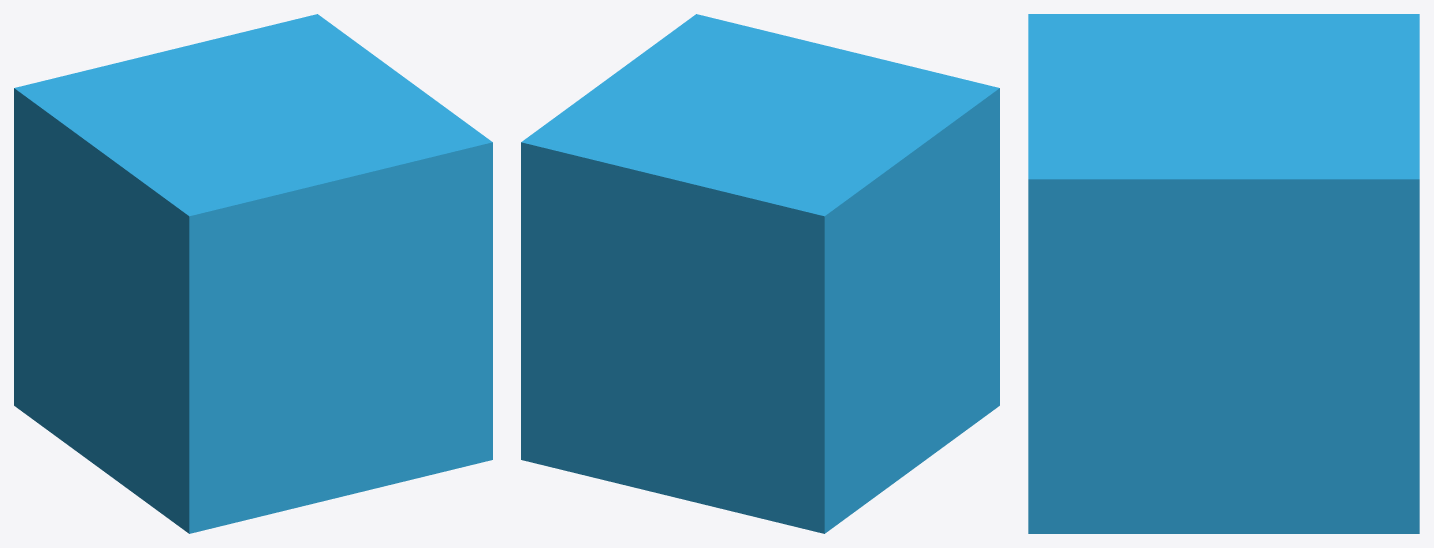
Rendered from forward-subdivide.glb.
3 views of the same model, side by side, from view 1: azimuth 30°, elevation 25°; view 2: azimuth 150°, elevation 25°; view 3: azimuth 270°, elevation 25° (orthographic). The views are drawn at different scales.
Visible parts, largest first — view 1: Studio_Cube; view 2: Studio_Cube; view 3: Studio_Cube.
Part boxes in pixels (x1=…): Studio_Cube: x1=14, y1=14, x2=492, y2=533; Studio_Cube: x1=521, y1=14, x2=999, y2=533; Studio_Cube: x1=1028, y1=14, x2=1419, y2=533.
Bounding box in the file's own units: 1 × 1 × 1.
